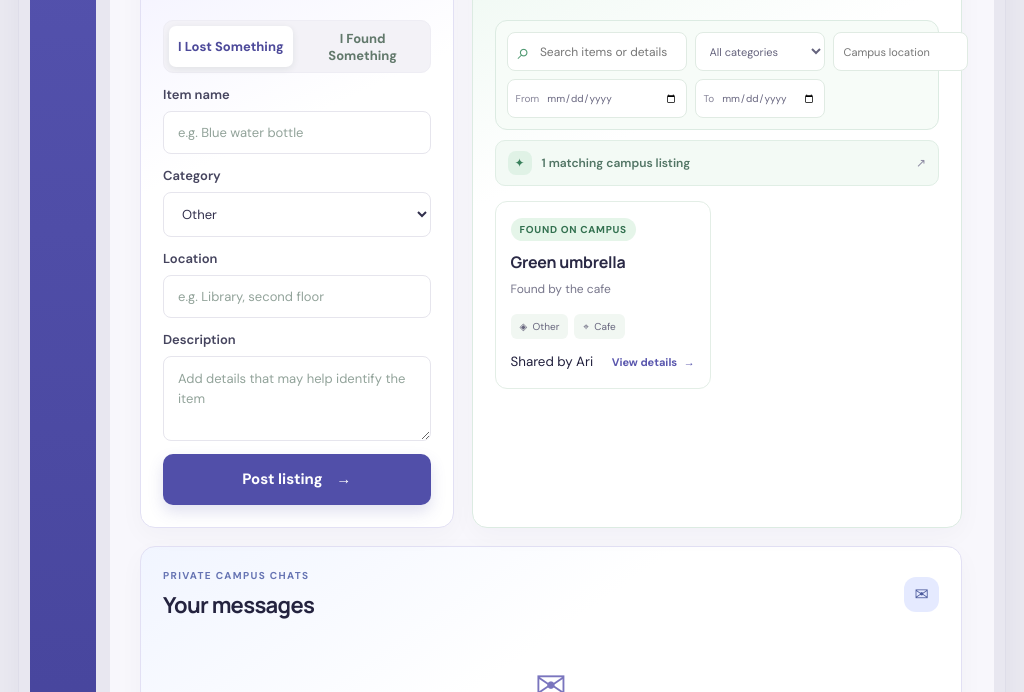
Test case: CampusFind board › lets the owner of a found listing review a claim from its details
The width and height of the screenshot is (1024, 692).
(page scrolled)
Click the button "View details →".
click(653, 362)  # box x1=612 y1=351 x2=695 y2=373
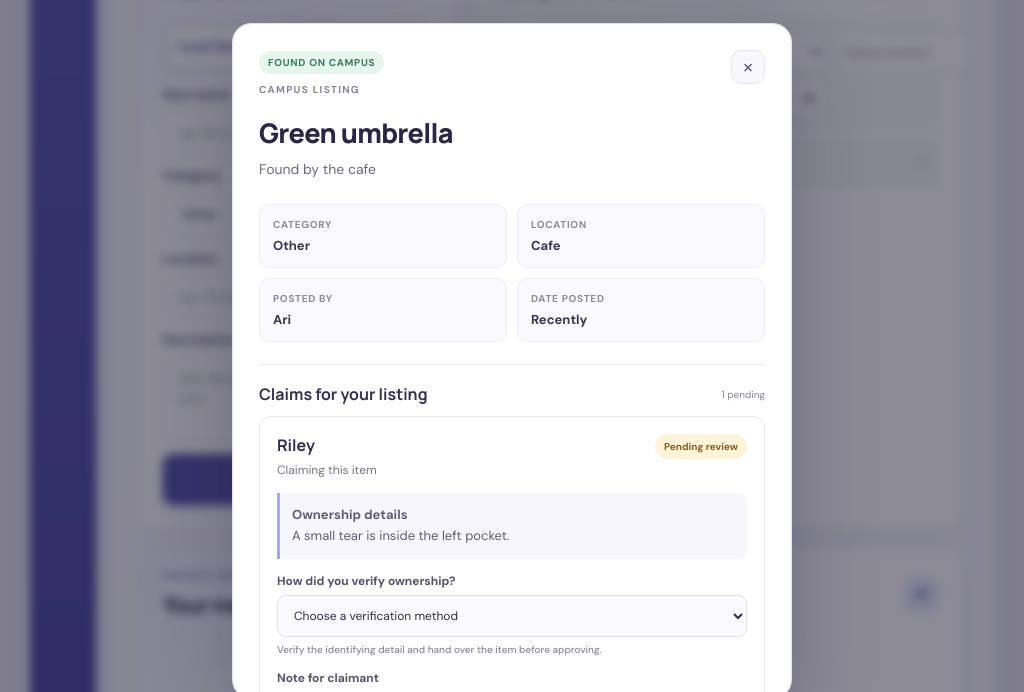
Result: the text "A small tear is inside the left pocket." is shown at x1=292 y1=527 x2=509 y2=544
Select "Confirmed details in person with the claimant" in the dropdown named "Owner verification method for Green umbrella" at (512,616), box x1=277 y1=595 x2=747 y2=637
(page scrolled)
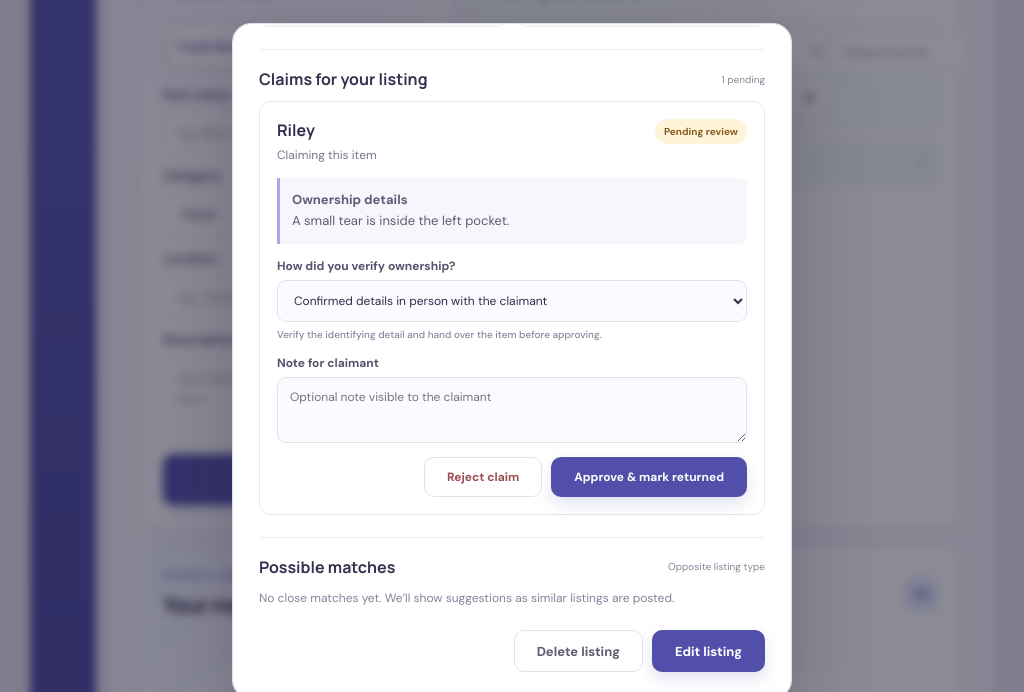
Click the button "Approve & mark returned".
click(649, 477)  # box x1=551 y1=457 x2=747 y2=497
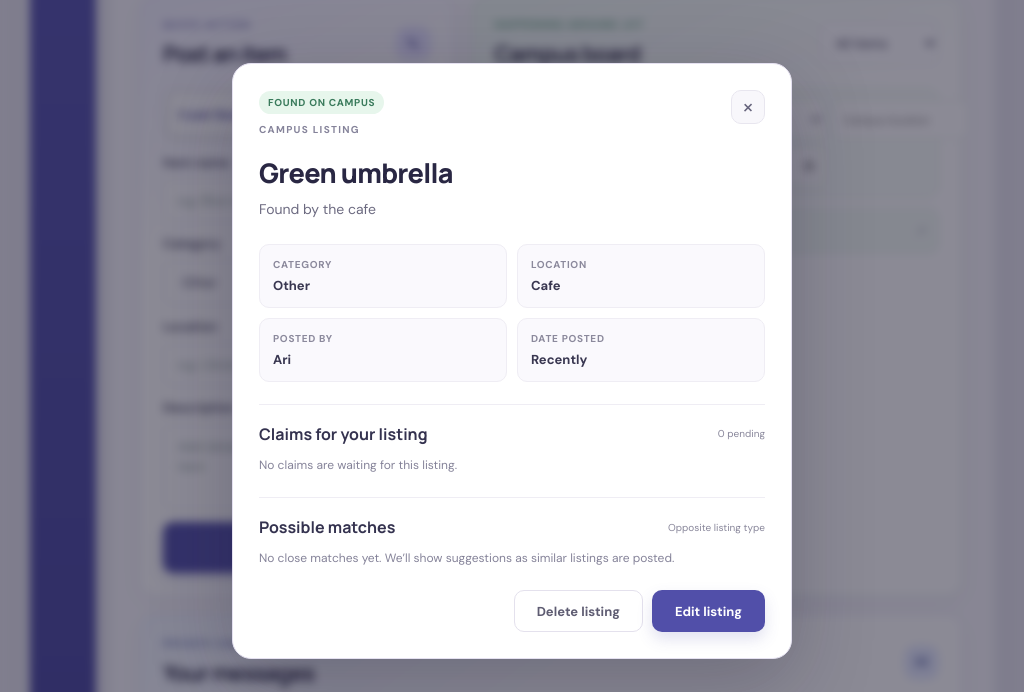
Result: the text "No claims are waiting for this listing." is shown at x1=259 y1=457 x2=457 y2=473
